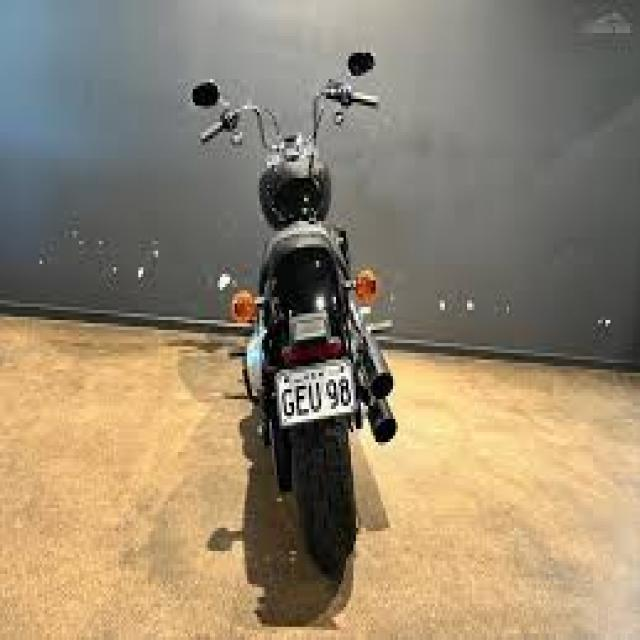number_plate: (256, 356, 378, 434)
